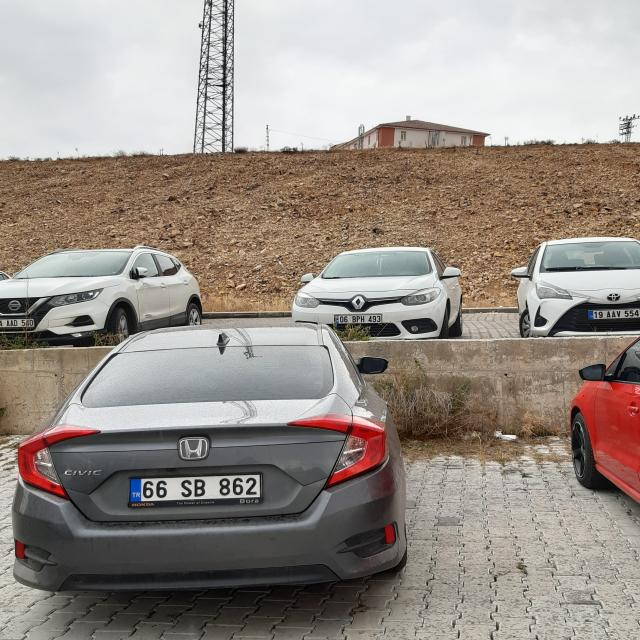license_plate: (128, 474, 262, 501), (588, 308, 640, 318), (334, 314, 383, 323)
